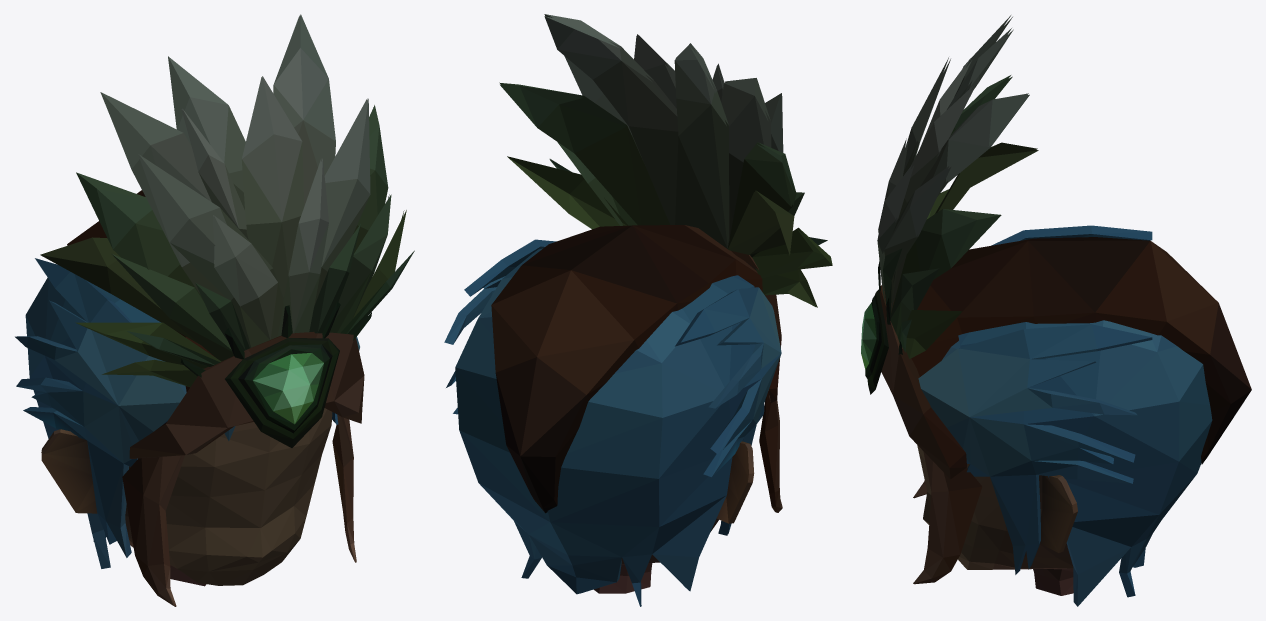
Rendered from helm_darkskin_spike_blue_headress.fbx.
3 renders of one model, left to right at view 1: azimuth 30°, elevation 25°; view 2: azimuth 150°, elevation 25°; view 3: azimuth 270°, elevation 25°, orthographic. The views are drawn at different scales.
Parts seen in each view (by area): view 1: helm_darkskin_spike_blue_headress; view 2: helm_darkskin_spike_blue_headress; view 3: helm_darkskin_spike_blue_headress.
Part boxes in pixels (x1,y1,x2,y2): helm_darkskin_spike_blue_headress: [15, 14, 414, 606]; helm_darkskin_spike_blue_headress: [444, 14, 832, 606]; helm_darkskin_spike_blue_headress: [861, 15, 1251, 606].
Bounding box in the file's own units: 1.29 × 2.05 × 1.35.
